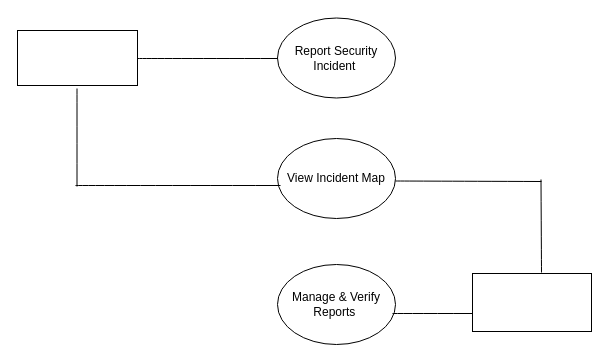
The diagram is 609 pixels wide and 362 high, and some of its shapes have lost their labels. Each missing label, with the centre of its shape:
Admin (Campus Security Personnel): point 532,302
User (Student / Staff / Landlord): point 77,58
